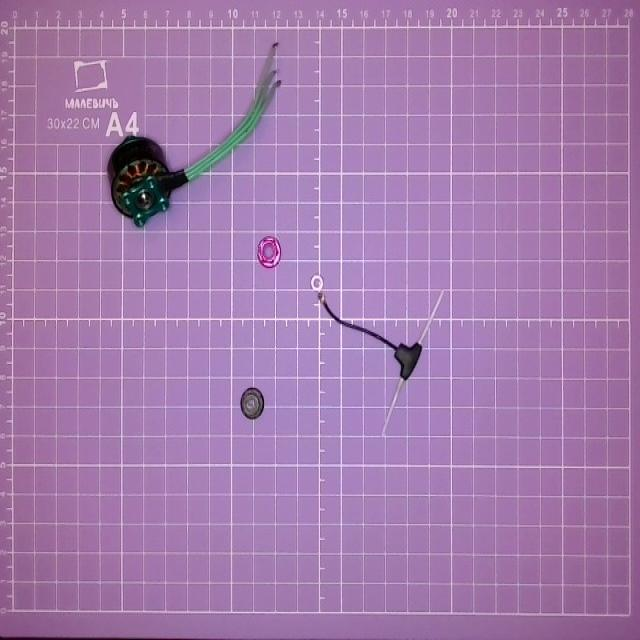antenna: (316, 286, 448, 432)
motor: (106, 36, 288, 230)
screw_M3: (307, 273, 327, 292)
screw_M5: (250, 230, 284, 281), (239, 383, 274, 426)
